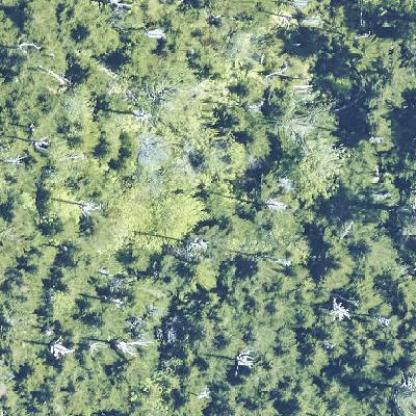tree-top: (322, 29, 409, 118), (113, 187, 198, 248), (282, 132, 335, 199)
